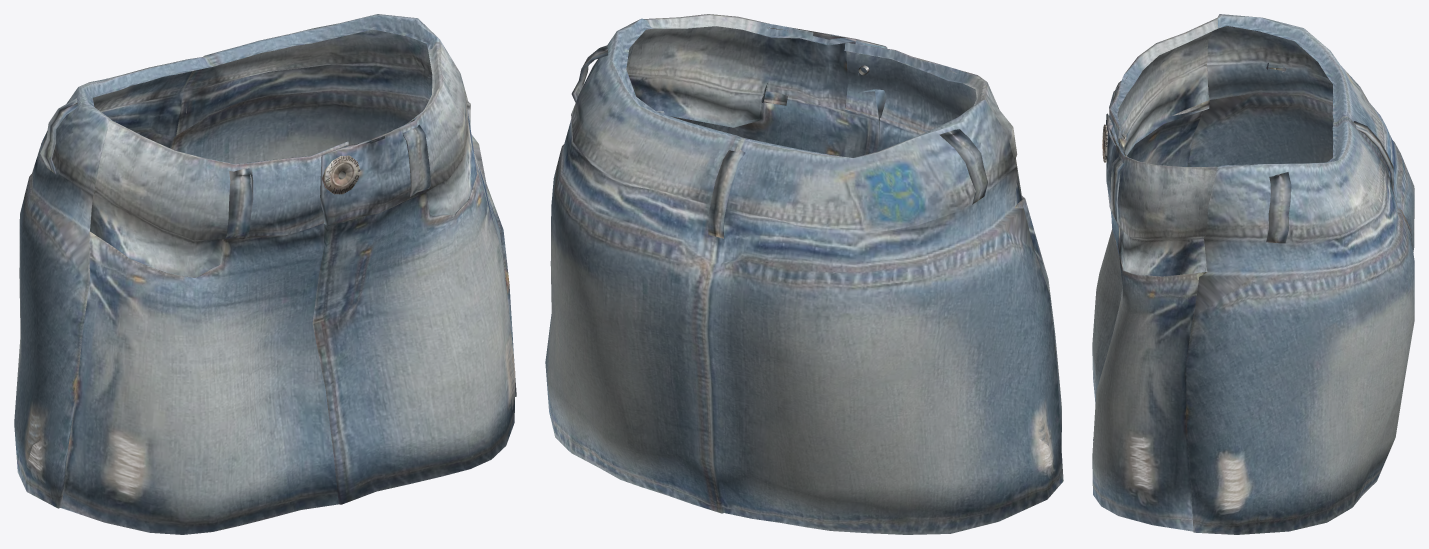
File: punkduck-jeans-skirt.glb
3 renders of one model, left to right at view 1: azimuth 30°, elevation 25°; view 2: azimuth 150°, elevation 25°; view 3: azimuth 270°, elevation 25°, orthographic. The views are drawn at different scales.
Visible parts, largest first — view 1: Human.punkduck_jeans_skirt; view 2: Human.punkduck_jeans_skirt; view 3: Human.punkduck_jeans_skirt.
Part boxes in pixels (left/top/right/bottom): Human.punkduck_jeans_skirt: left=14, top=14, right=516, bottom=534; Human.punkduck_jeans_skirt: left=545, top=14, right=1063, bottom=534; Human.punkduck_jeans_skirt: left=1092, top=14, right=1414, bottom=534.
Bounding box in the file's own units: 0.3933 × 0.3005 × 0.2494.
Materials: 1 (1 with a texture image).
